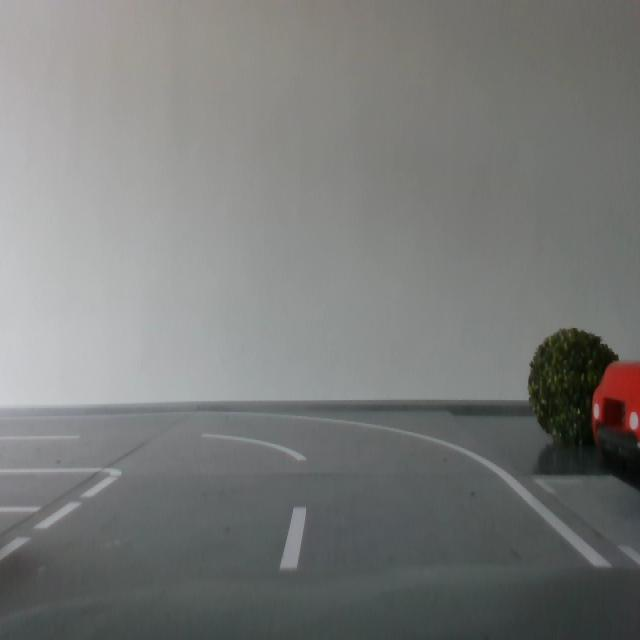car: (591, 360, 640, 469)
potted plant: (526, 326, 621, 451)
